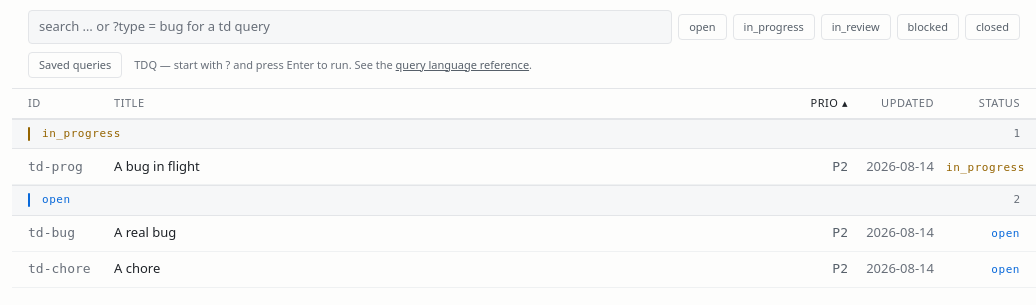
Scenario: IssueList › TDQ mode › distinguishes a query that matched nothing from a filtered-out list
Expected: the text "A real bug" is shown, [114,223,176,241]
Type "?title ~ nothing" into the search field labelled "search" at (350, 27), box [28,10,672,44]
Then press Enter
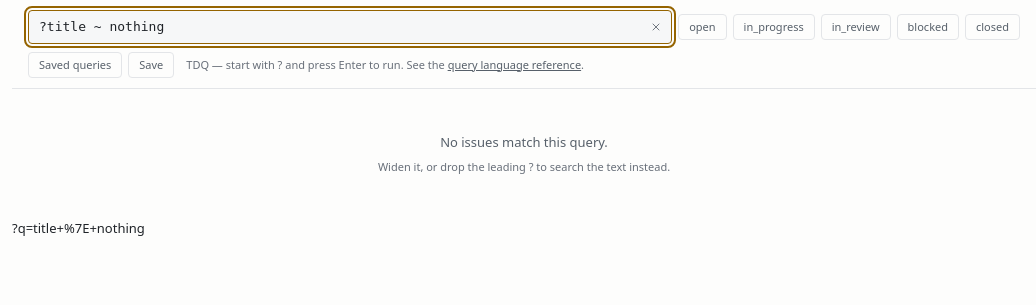
Expected: the text "No issues match this query." is shown, [440,133,608,151]
